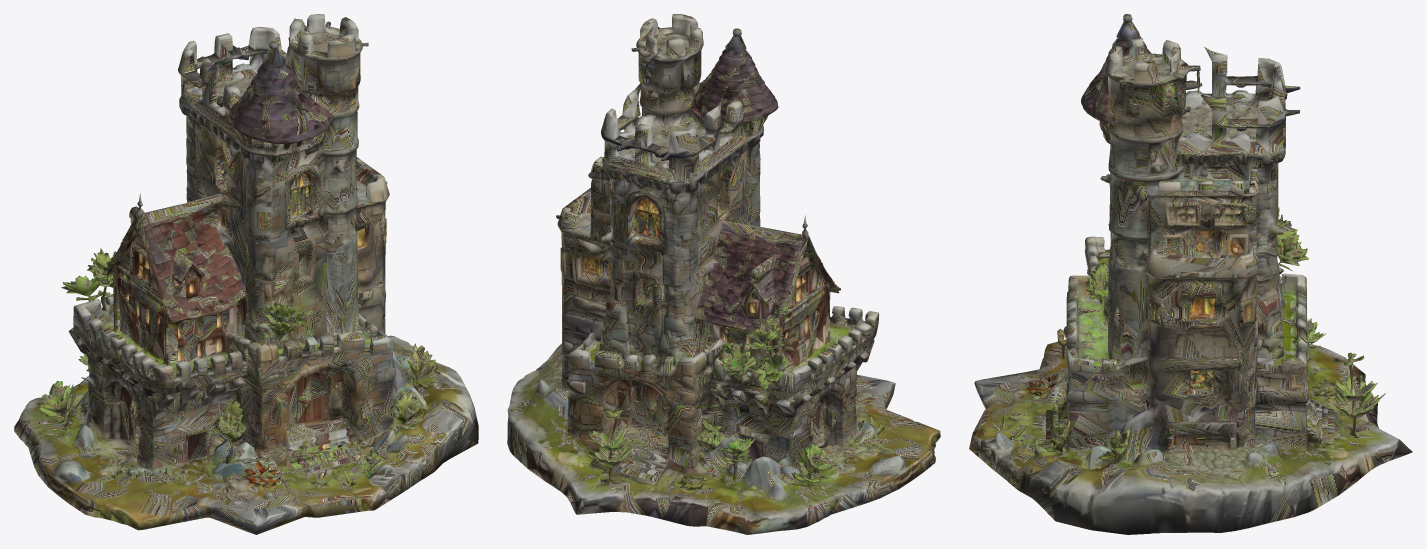
Rendered from Emberkeep_Turret.glb.
3 views of the same model, side by side, from view 1: azimuth 30°, elevation 25°; view 2: azimuth 150°, elevation 25°; view 3: azimuth 270°, elevation 25° (orthographic). The views are drawn at different scales.
Visible parts, largest first — view 1: Emberkeep_Turret; view 2: Emberkeep_Turret; view 3: Emberkeep_Turret.
Part boxes in pixels (x1,y1,x2,y2): Emberkeep_Turret: (14, 14, 478, 534); Emberkeep_Turret: (507, 14, 940, 534); Emberkeep_Turret: (969, 14, 1412, 534).
Size of the model in its own units: 1.88 by 1.9 by 1.8.
Materials: 1 (1 with a texture image).
